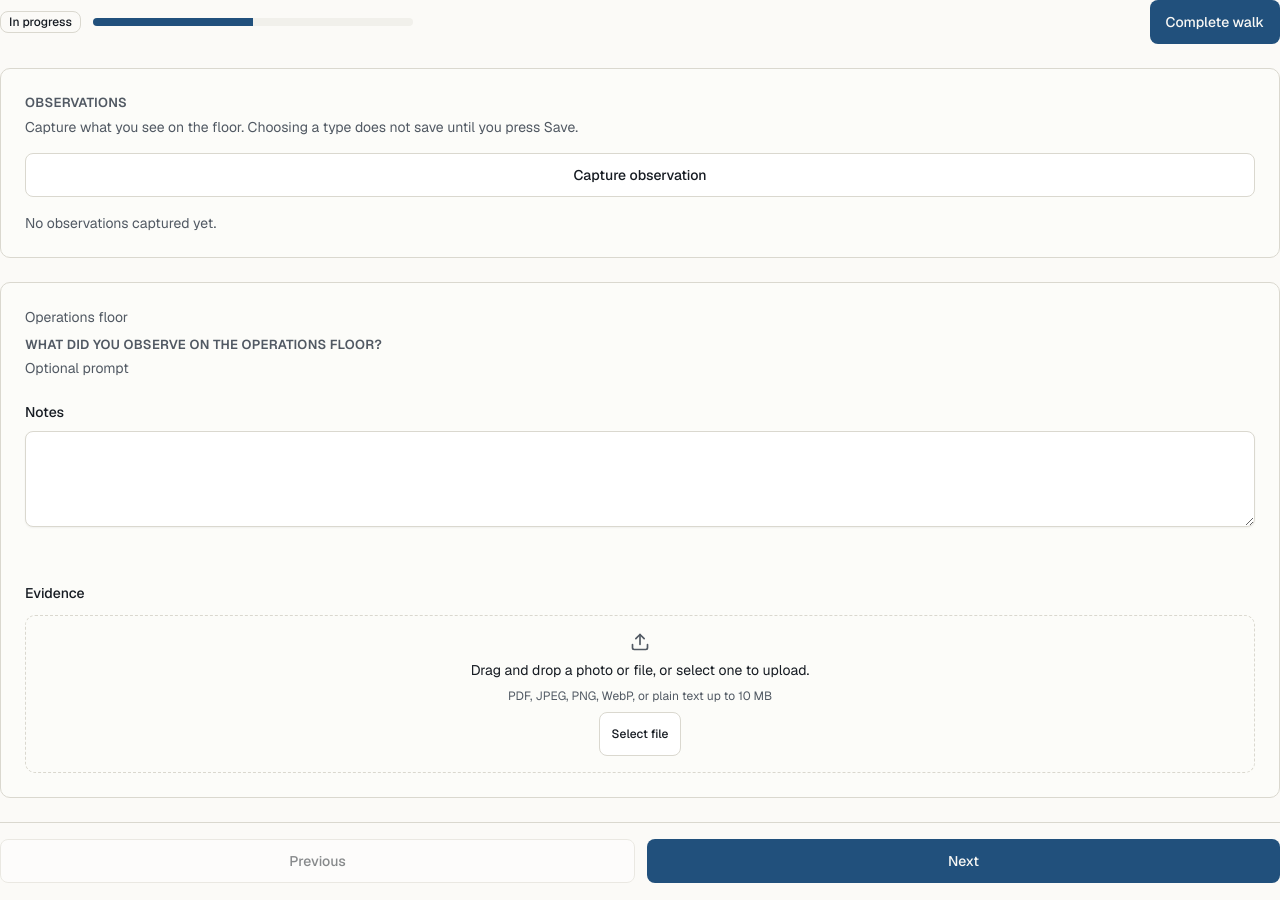
GembaWalkWorkspace answer state › does not complete the walk when an answer save fails
Type "blocked notes" into the text box labelled "Notes".
click(640, 479); type("blocked notes")  # box [25,431,1255,527]
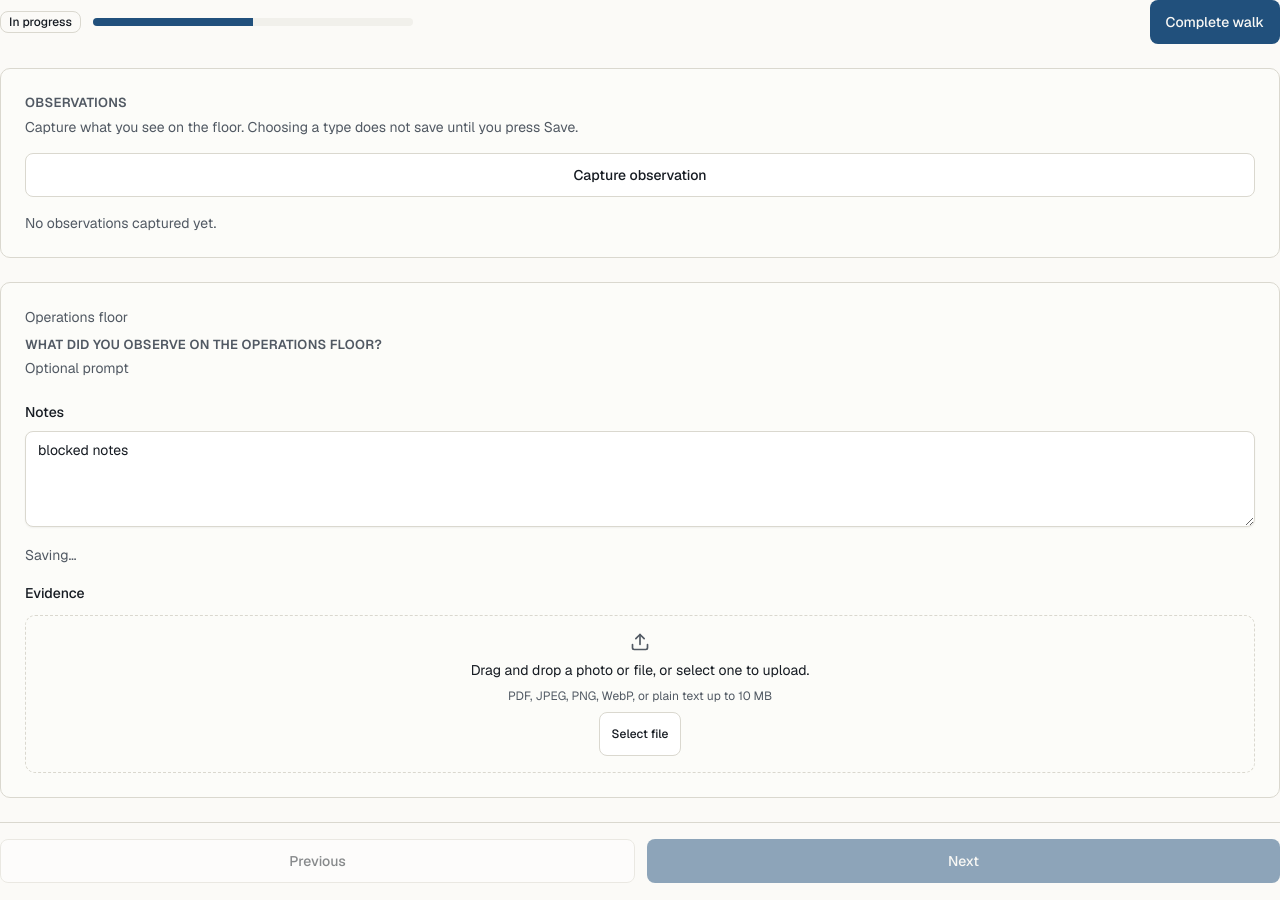
Leave the text box labelled "Notes", box [25,431,1255,527]
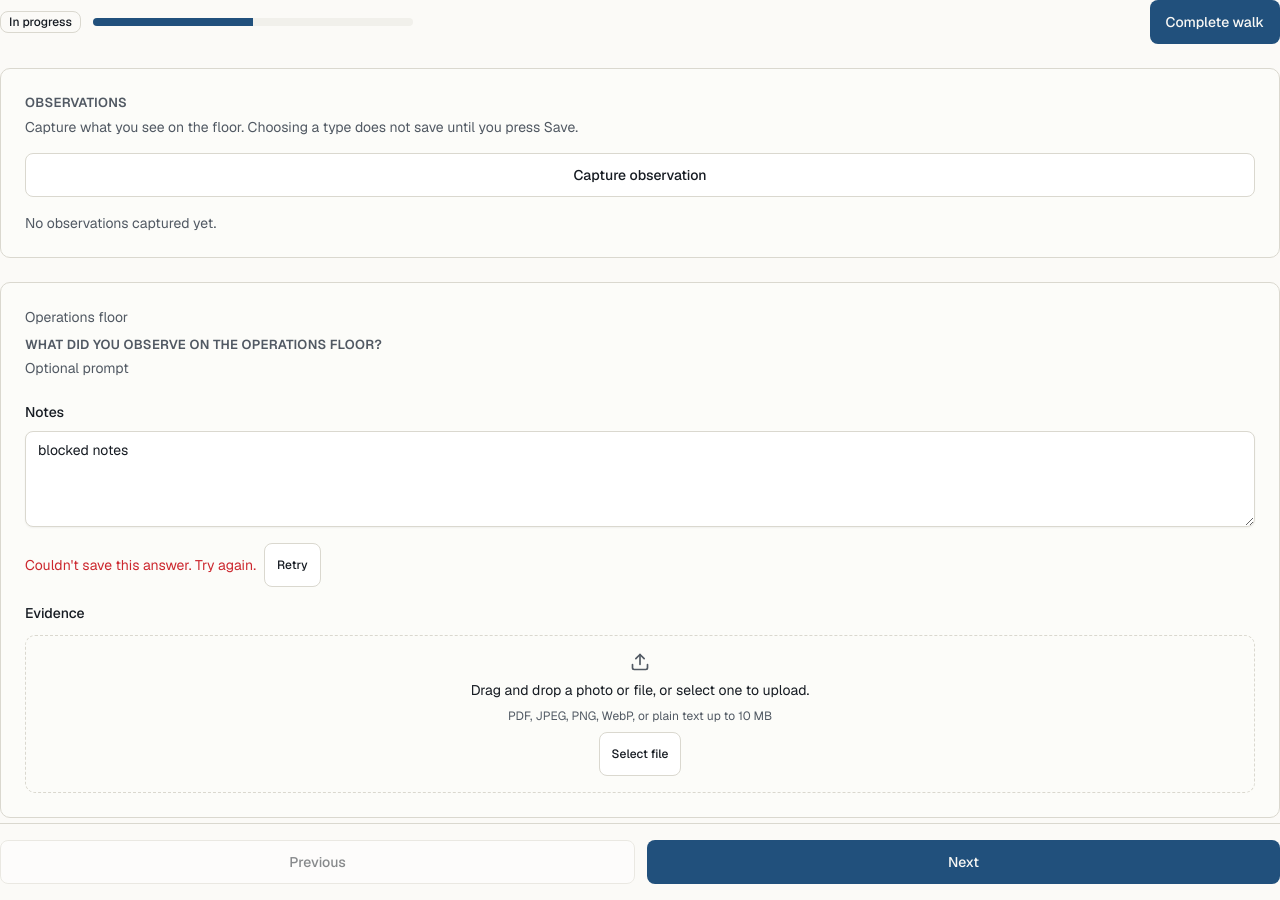
expect the message reads "Couldn't save this answer. Try again.": met, box [25,556,256,574]
Click the button with test id "gemba-complete-walk".
click(1215, 22)  # box [1150,0,1279,44]
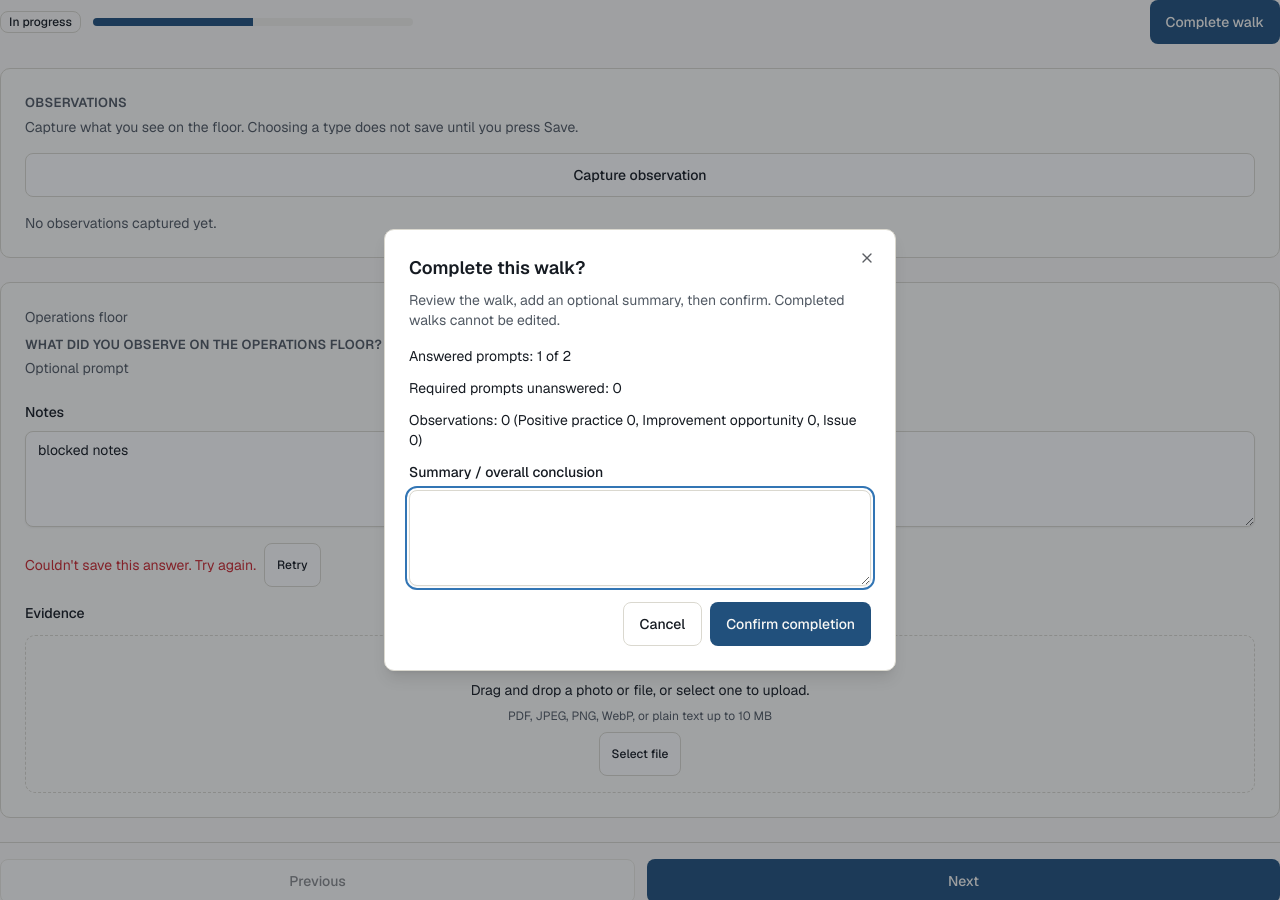
Click the button with test id "gemba-confirm-complete".
click(791, 624)  # box [710,602,871,646]
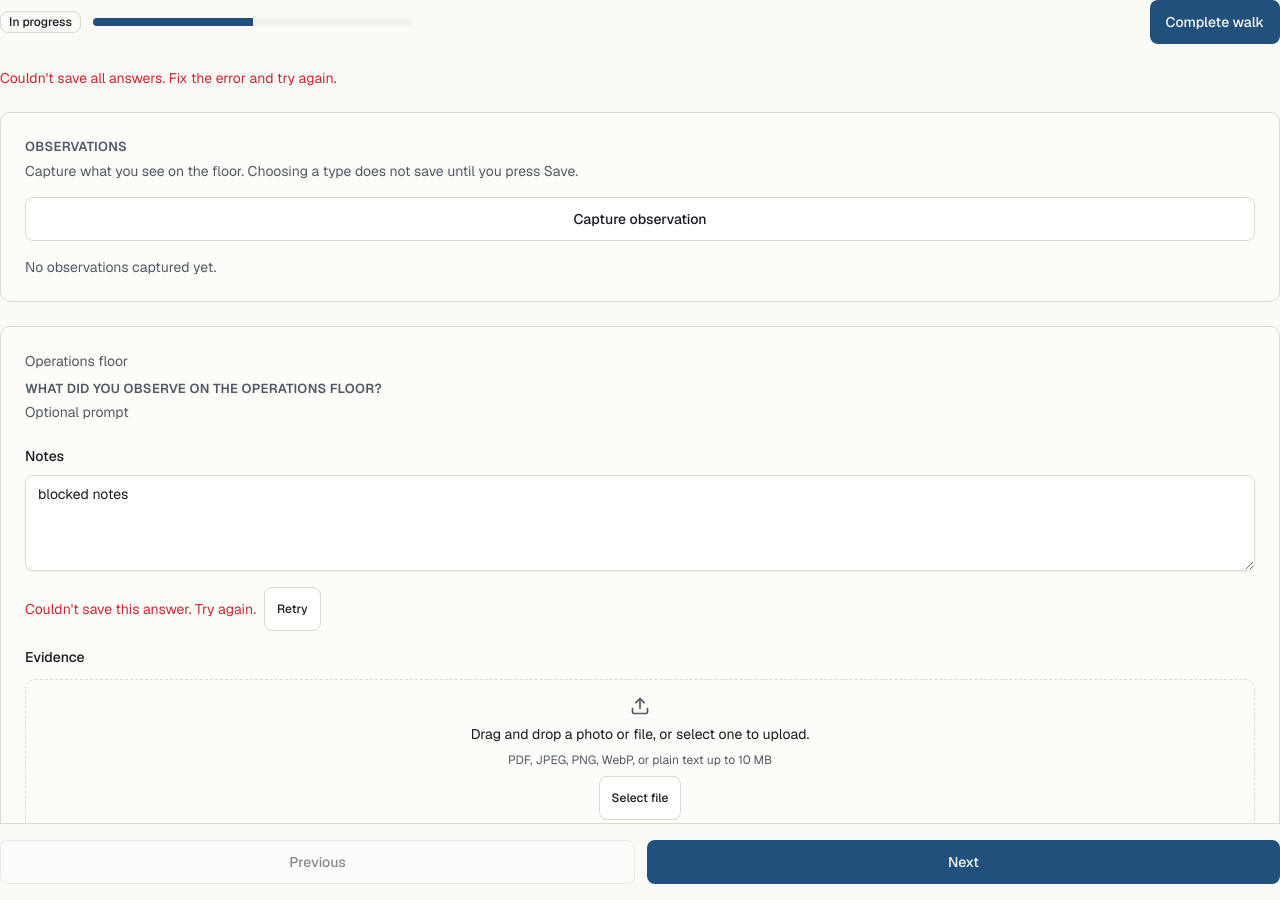
expect the element with test id "answer-save-status" shows "Couldn't save this answer. Try again.": met, box [25,600,256,618]
expect the button with test id "answer-save-retry" is shown: met, box [264,587,321,631]
expect the message with test id "gemba-complete-error" reads "Couldn't save all answers. Fix the error and try again.": met, box [0,69,336,87]
